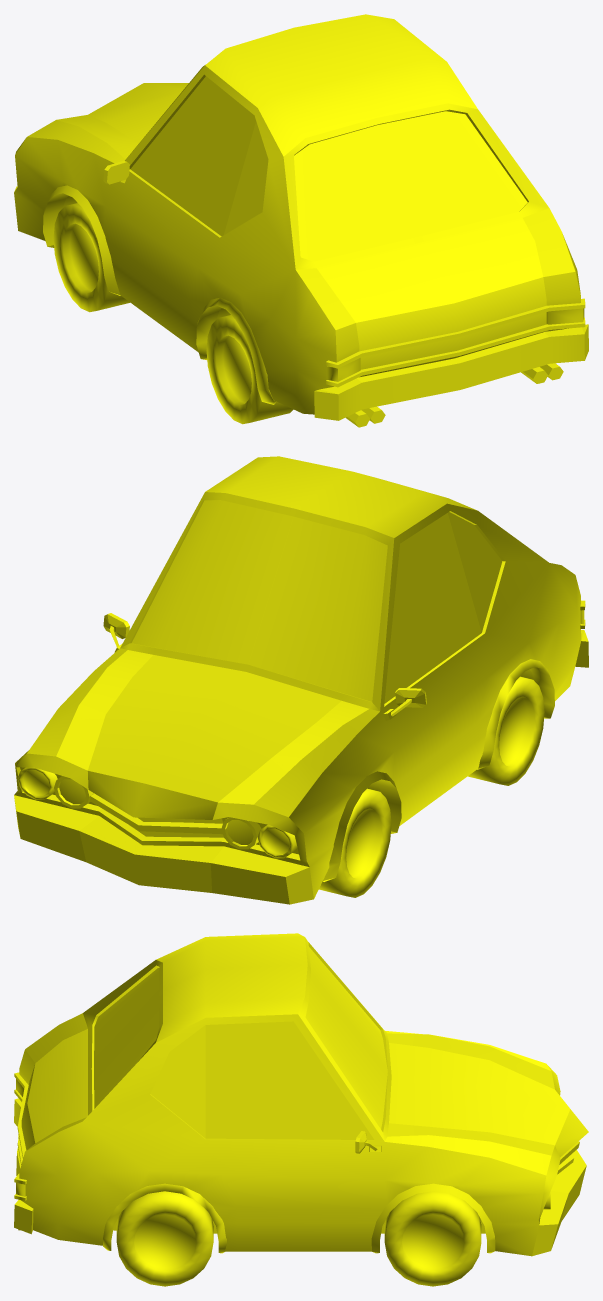
The picture shows the model from 3 angles, top to bottom: view 1: azimuth 30°, elevation 25°; view 2: azimuth 150°, elevation 25°; view 3: azimuth 270°, elevation 25°; orthographic projection. The views are drawn at different scales.
Visible parts, largest first — view 1: taxi03, tyre1, tyre3, light1; view 2: taxi03, tyre3, tyre1; view 3: taxi03, tyre2, tyre4.
Part boxes in pixels (x1=…): taxi03: x1=14, y1=14, x2=588, y2=427; tyre1: x1=206, y1=315, x2=293, y2=424; tyre3: x1=53, y1=203, x2=129, y2=312; light1: x1=326, y1=308, x2=584, y2=381; taxi03: x1=14, y1=456, x2=588, y2=904; tyre3: x1=319, y1=788, x2=391, y2=897; tyre1: x1=468, y1=676, x2=544, y2=785; taxi03: x1=14, y1=933, x2=588, y2=1256; tyre2: x1=116, y1=1191, x2=213, y2=1286; tyre4: x1=384, y1=1191, x2=481, y2=1286.
Bounding box in the file's own units: 0.5959 × 0.5271 × 1.05.
Materials: 1 (1 with a texture image).
